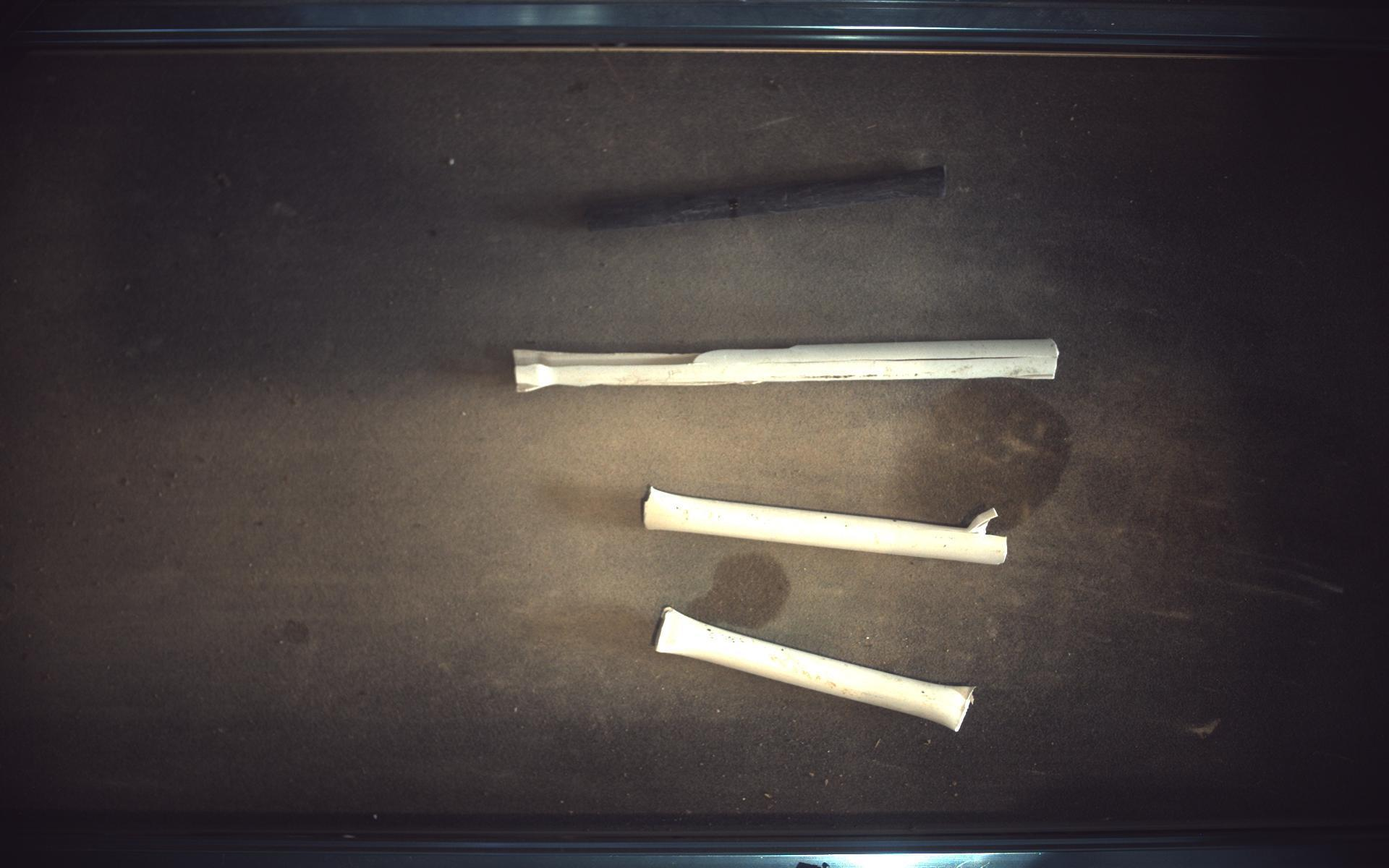pipes: (655, 608, 975, 732), (514, 339, 1061, 392), (645, 487, 1009, 565), (586, 164, 948, 229)
